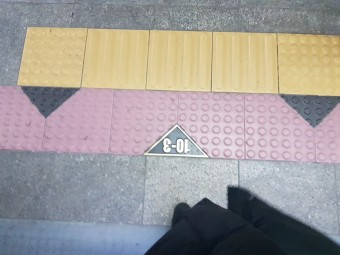guideBlock: (149, 25, 215, 93), (212, 33, 283, 95), (83, 29, 151, 89)
warningBlock: (248, 97, 318, 165), (274, 33, 340, 95), (178, 95, 244, 157), (111, 93, 178, 154), (45, 90, 112, 151), (24, 27, 80, 83), (1, 88, 45, 146)
